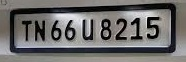numberplate: (12, 5, 174, 52)
